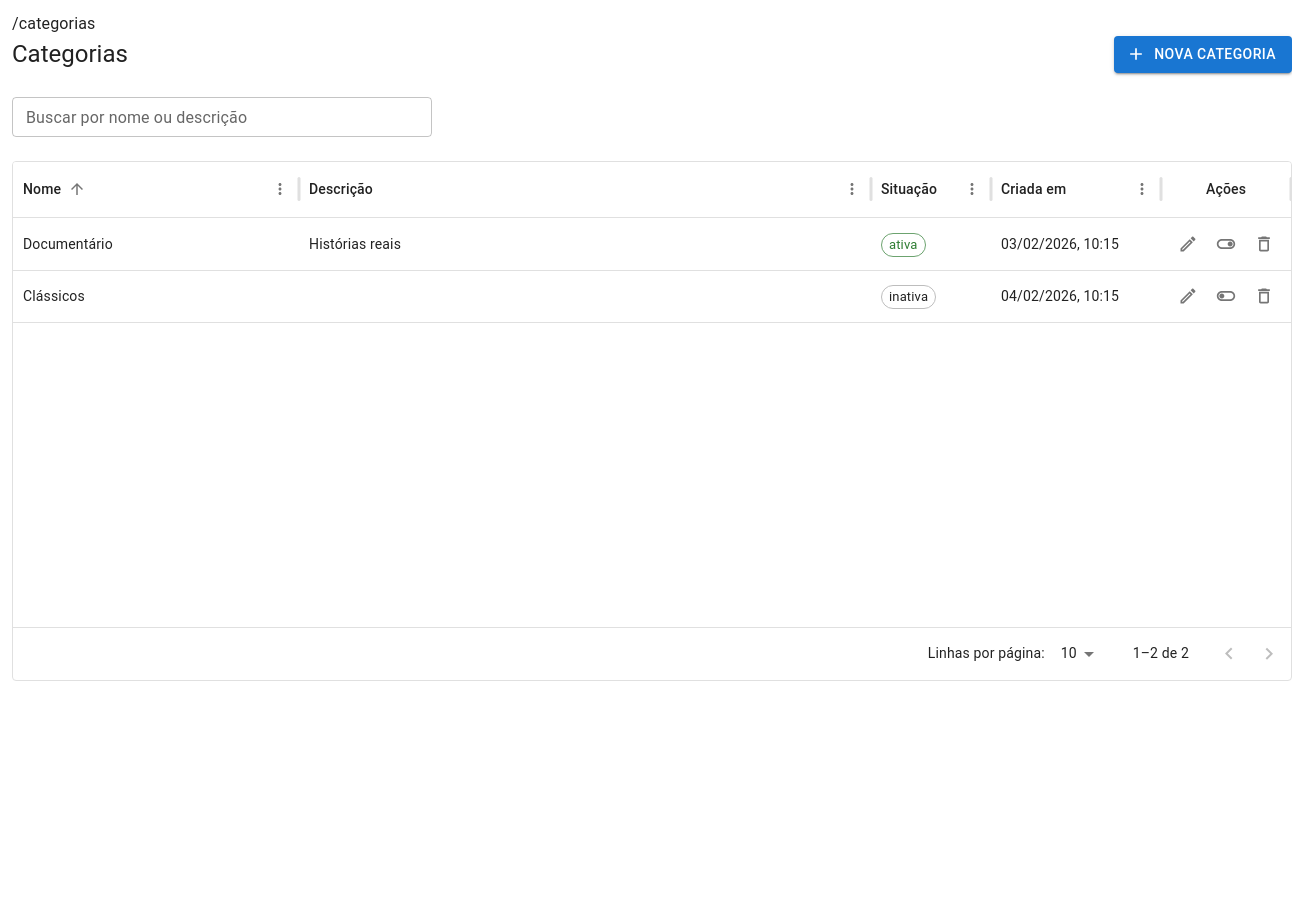
Test: CategoryList › as ações da linha › givenCategoriaAtiva_whenClicaEmDesativar_thenChamaDeactivate
The width and height of the screenshot is (1304, 912).
Expected: the text "Documentário" is shown, [23,236,113,252]
What coordinates should you click on to do the following:
click the menu item named "Desativar"
I would click on:
 (1226, 244)
Its box is [1211,229,1241,259].
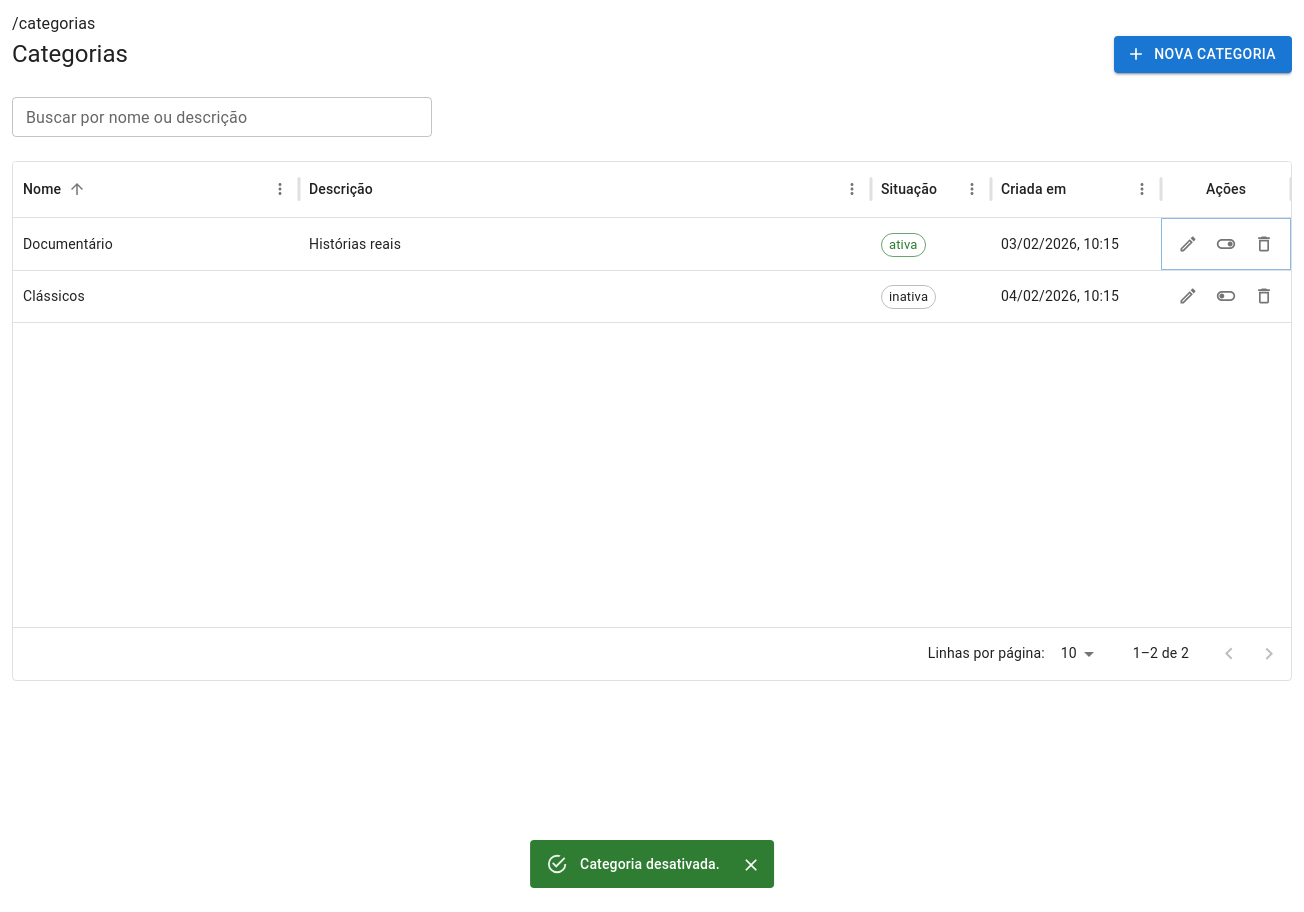
Now the text "Categoria desativada." is shown, box [580,856,720,872]
